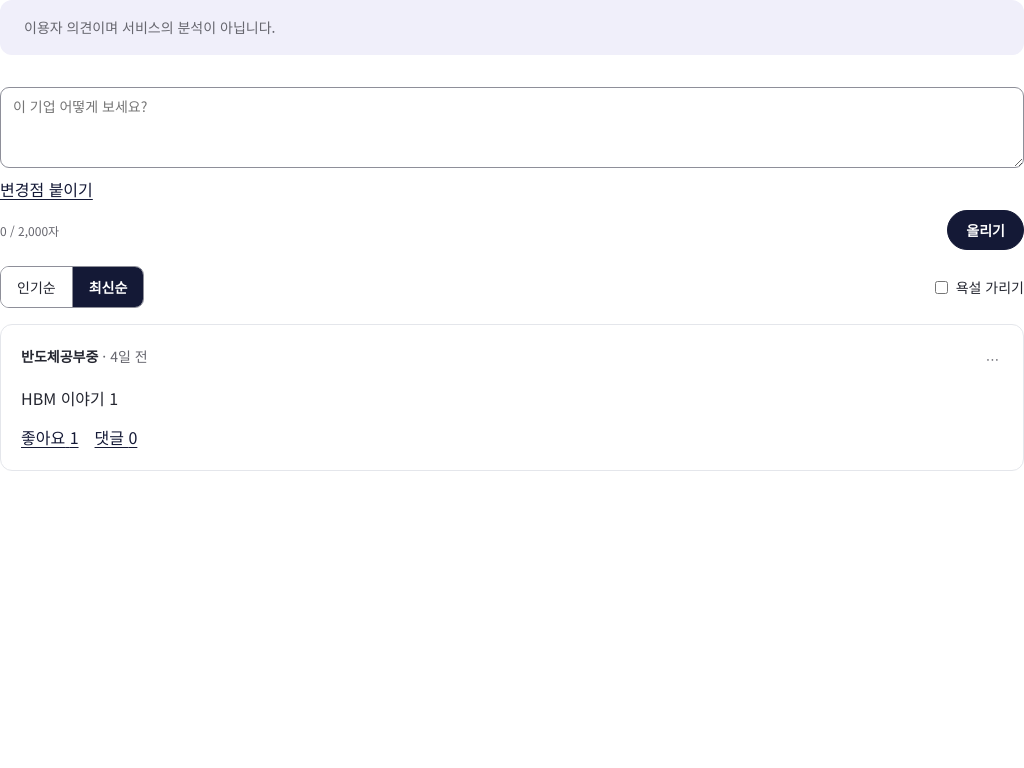
Test case: 커뮤니티 탭 › 닉네임이 없으면 올릴 때 닉네임 정하기가 먼저 뜨고, 정하면 같은 글을 올린다
expect the text "HBM 이야기 1" is shown: met, box [21,386,118,410]
In the text box named "글쓰기": (512, 128) [0,87,1023,168], type "  첫 의견 "
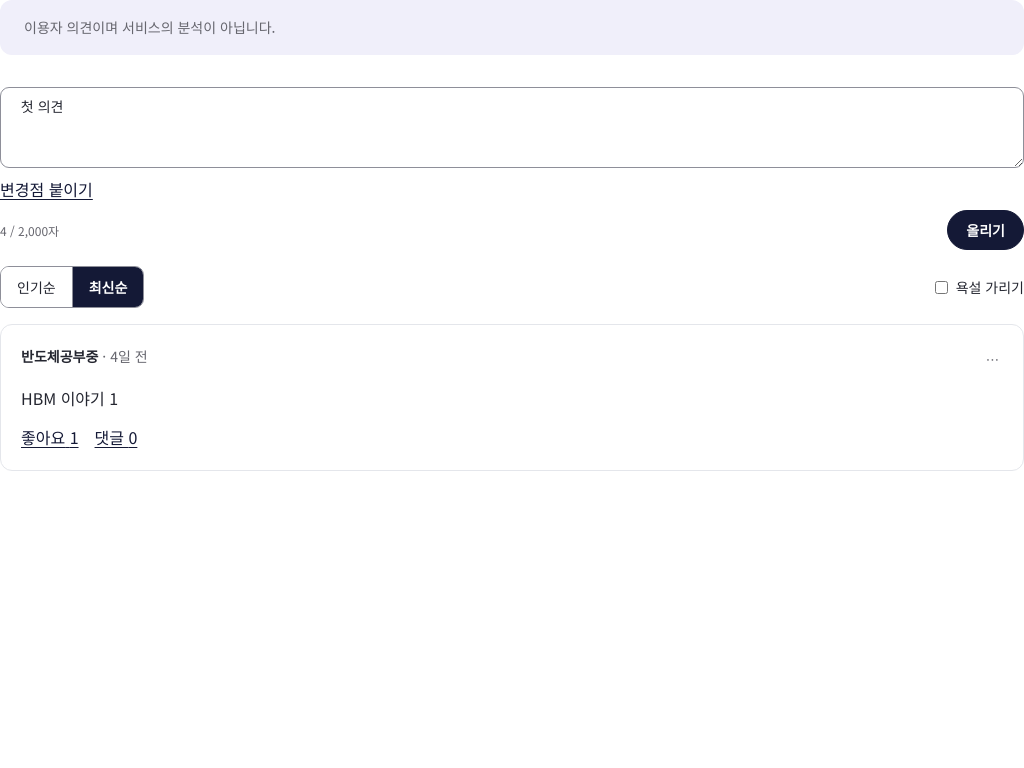
Click the button "올리기": (986, 230) [947,210,1023,250]
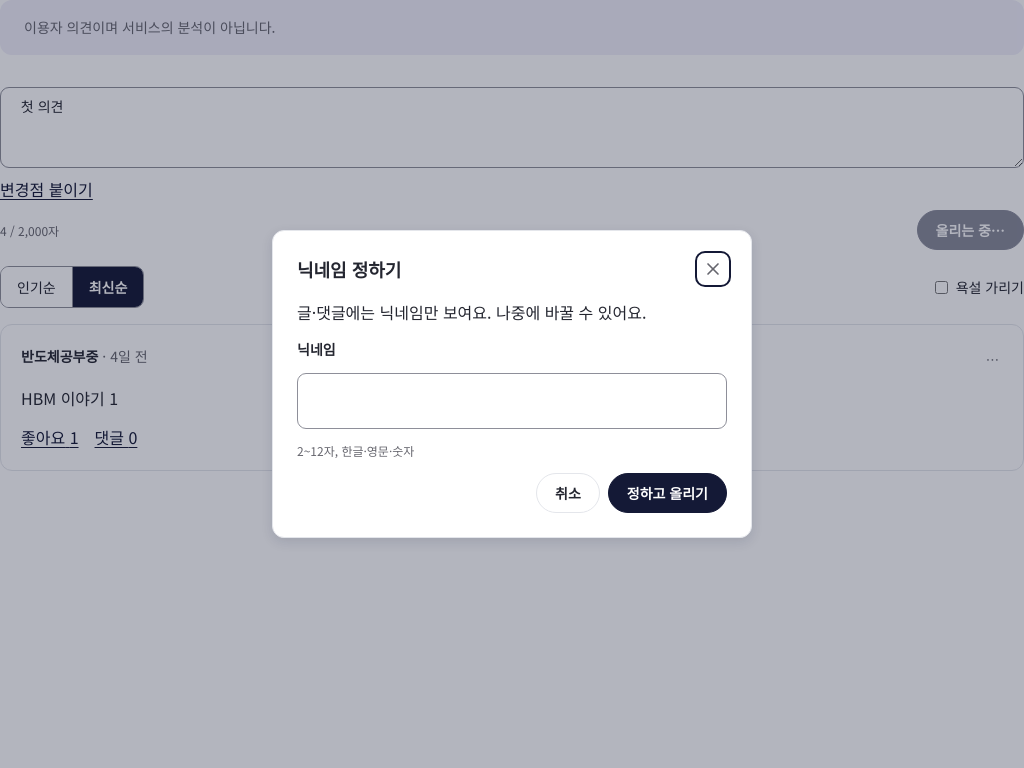
In the field labelled "닉네임": (512, 401) [297,373,727,429], type "반도체공부중"
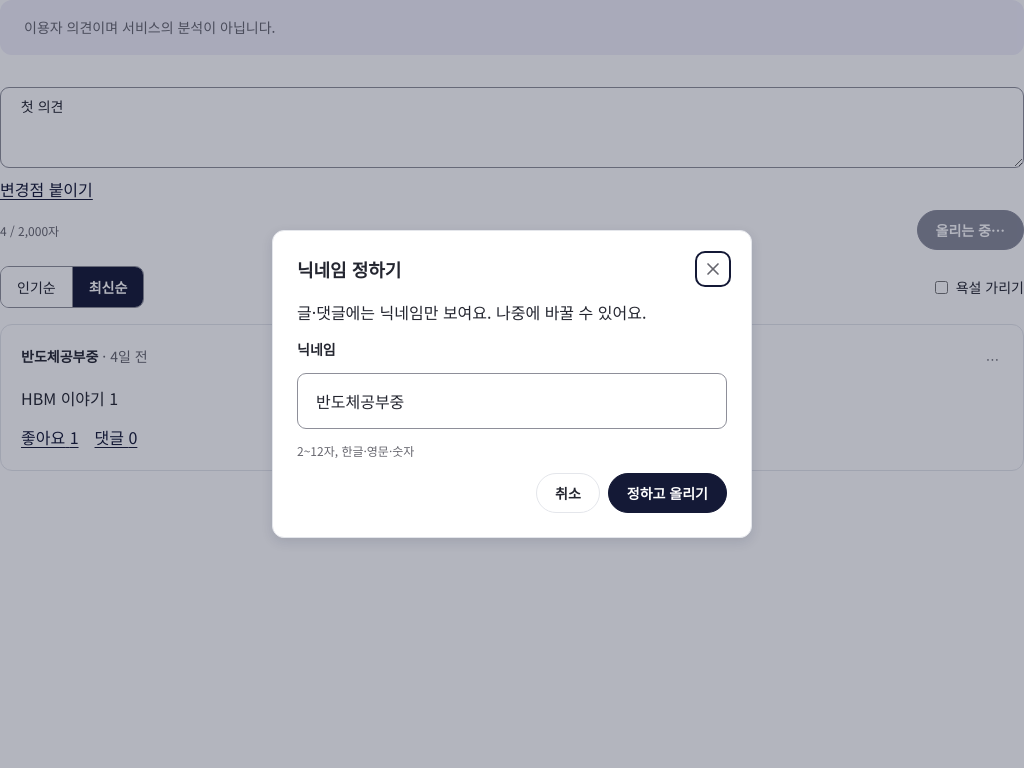
Click the button "정하고 올리기": (667, 493) [608,473,727,513]
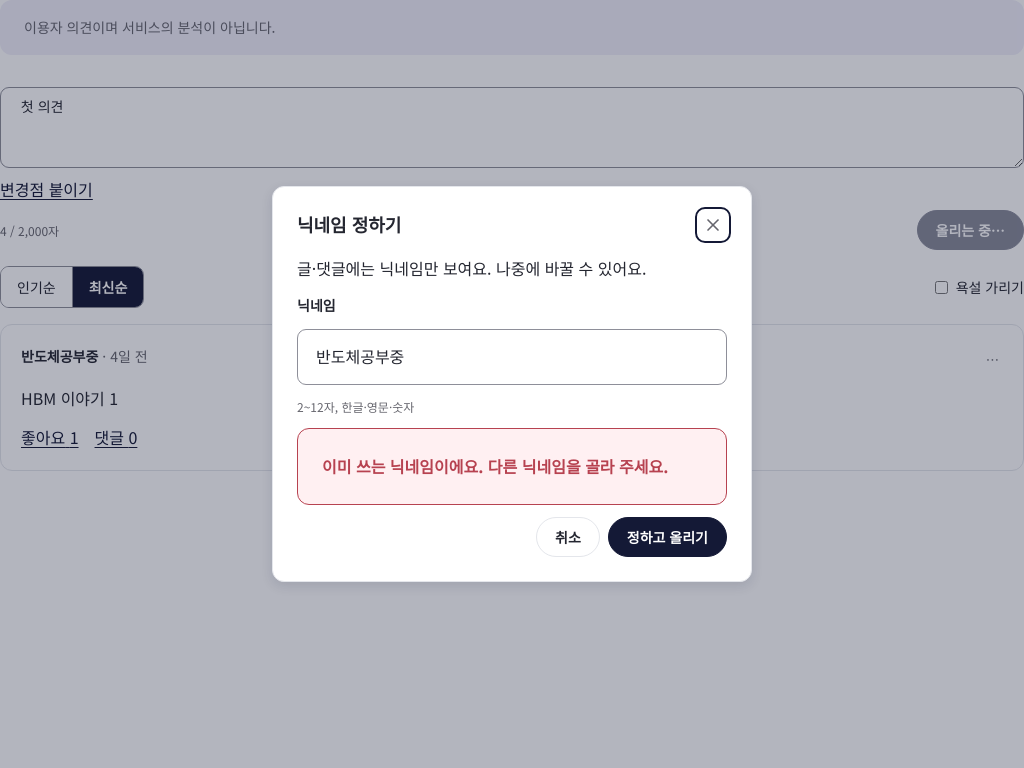
expect the text "이미 쓰는 닉네임이에요. 다른 닉네임을 골라 주세요." is shown: met, box [322,453,702,480]
Replace the text in the field labelled "닉네임" with "새닉네임": (512, 357) [297,329,727,385]
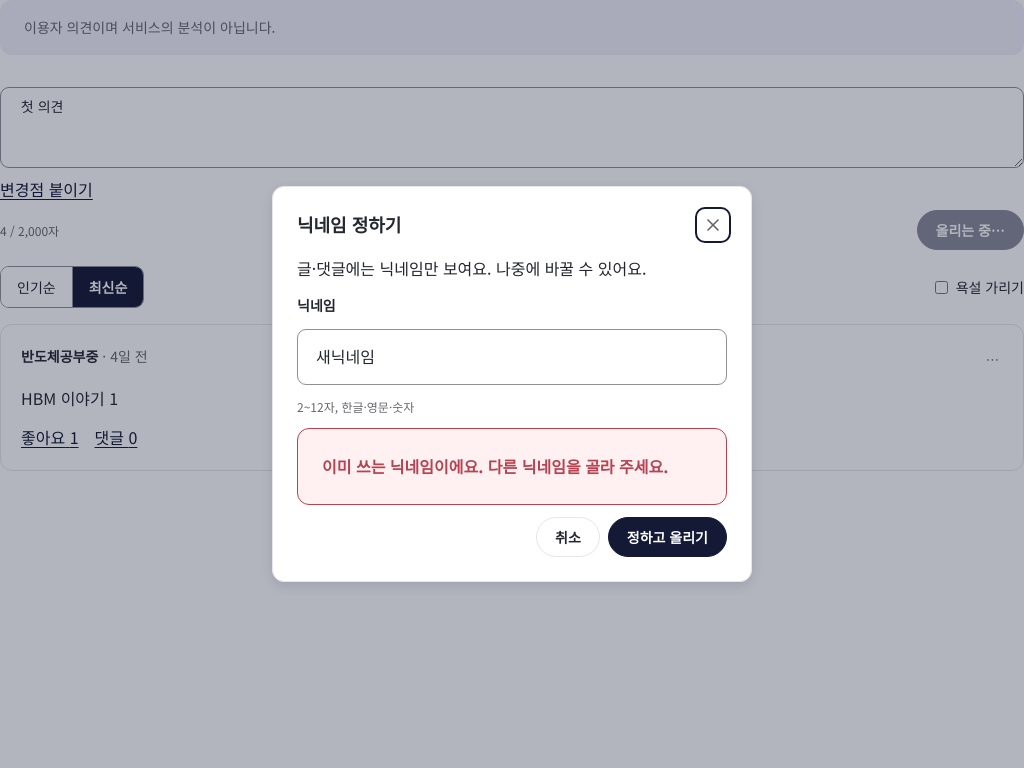
Click the button "정하고 올리기": (667, 537) [608,517,727,557]
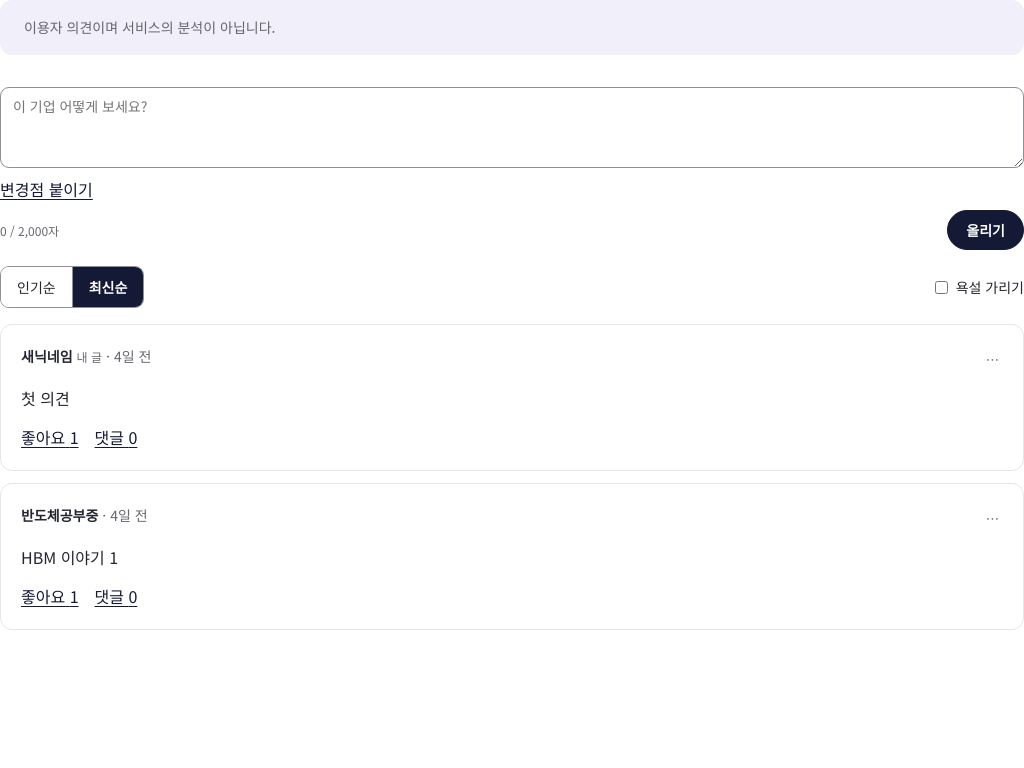
expect the dialog is gone: met
expect the text box named "글쓰기" is empty: met, box [0,87,1023,168]
